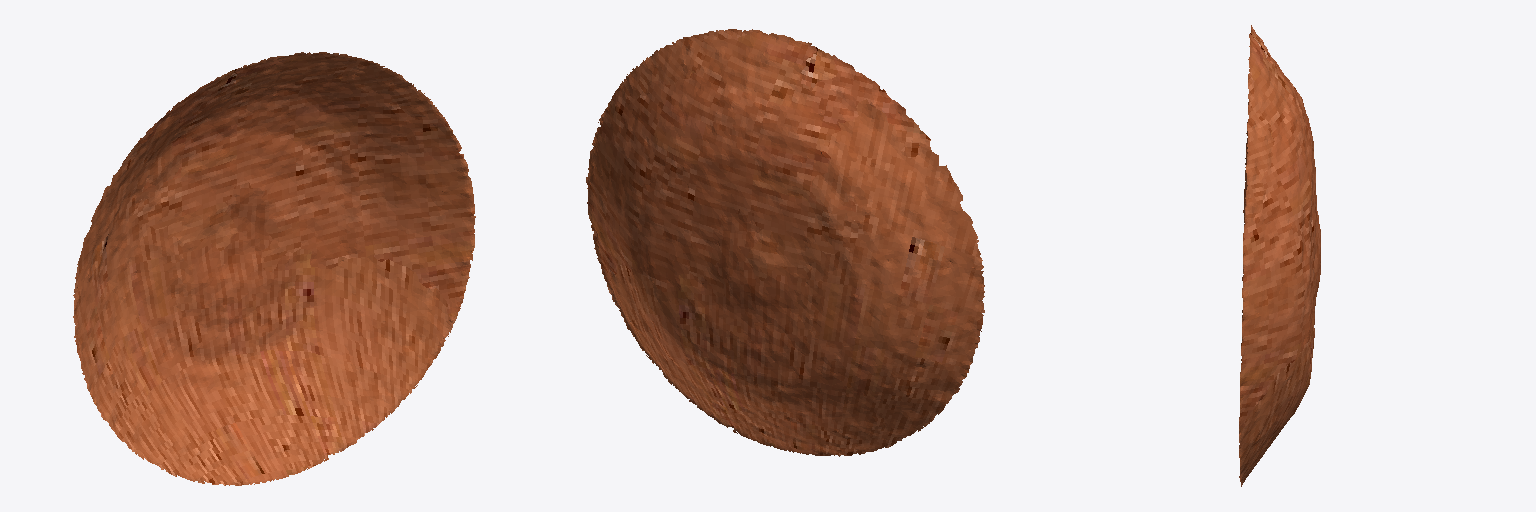
3 renders of one model, left to right at view 1: azimuth 30°, elevation 25°; view 2: azimuth 150°, elevation 25°; view 3: azimuth 270°, elevation 25°, orthographic.
Parts seen in each view (by area): view 1: mesh; view 2: mesh; view 3: mesh.
Boxes of the visible parts, <box> form: mesh: <box>73,52,475,485</box>; mesh: <box>586,29,984,456</box>; mesh: <box>1239,25,1320,486</box>.
Size of the model in its own units: 1.11 by 1.11 by 0.1971.
1 materials, 1 textured.